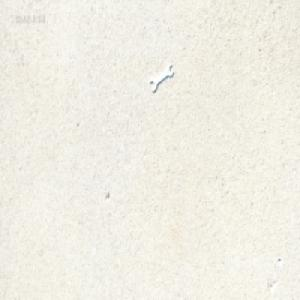Wrench: (150, 65, 174, 95)
